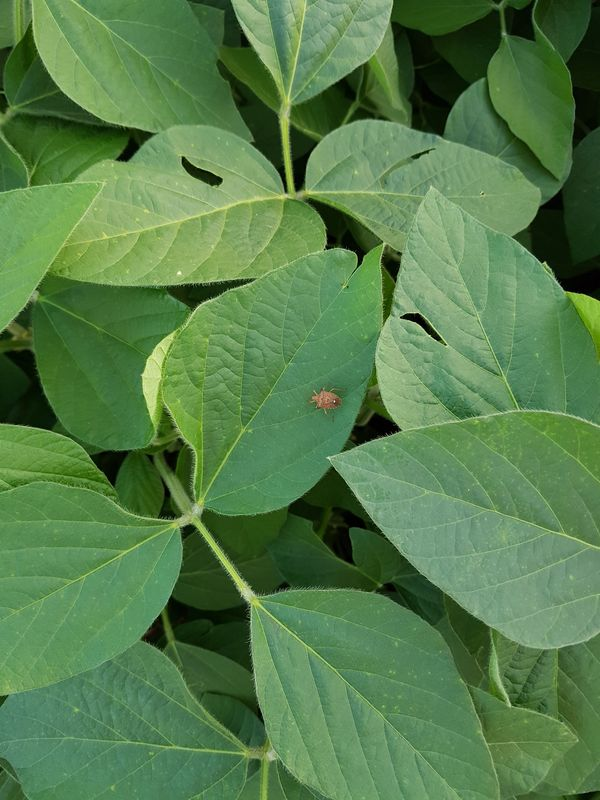Euschistus_heros_adulto: (304, 380, 350, 425)
